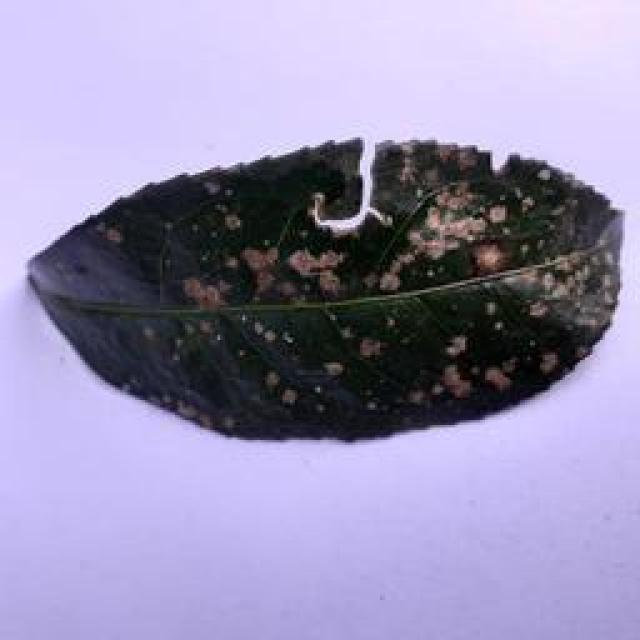Algal Leaf Spot: (32, 127, 640, 445)
